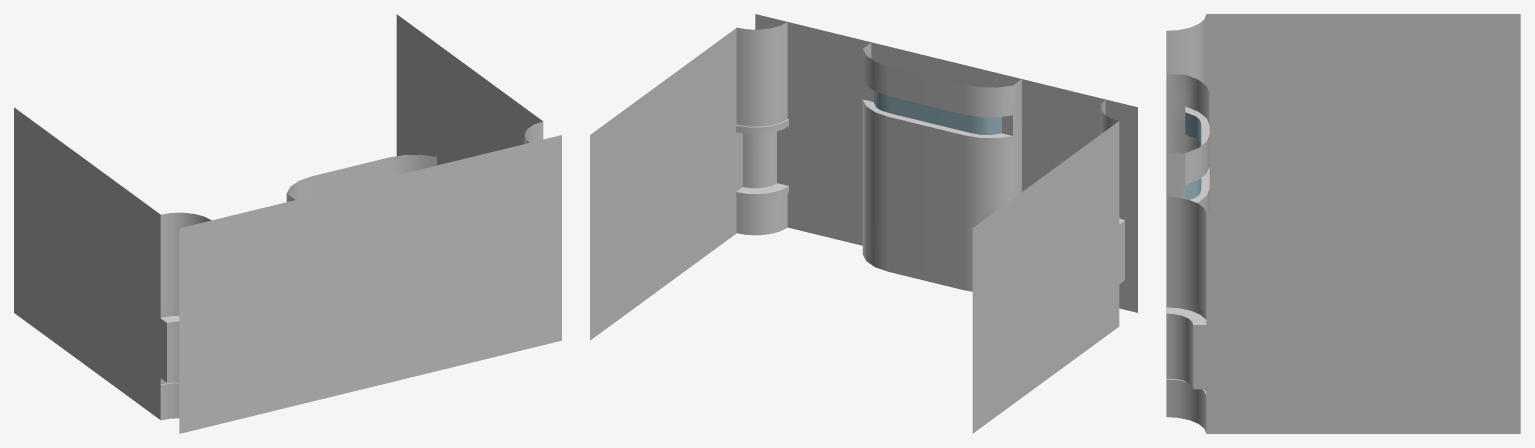
The model's file is obscurescenefbx.fbx.
3 views of the same model, side by side, from view 1: azimuth 30°, elevation 25°; view 2: azimuth 150°, elevation 25°; view 3: azimuth 270°, elevation 25° (orthographic). The views are drawn at different scales.
Visible parts, largest first — view 1: group3; view 2: group3; view 3: group3.
Part boxes in pixels (x1=…): group3: x1=14, y1=14, x2=561, y2=433; group3: x1=590, y1=14, x2=1137, y2=433; group3: x1=1166, y1=14, x2=1520, y2=433.
Bounding box in the file's own units: 66.77 × 34.31 × 50.
